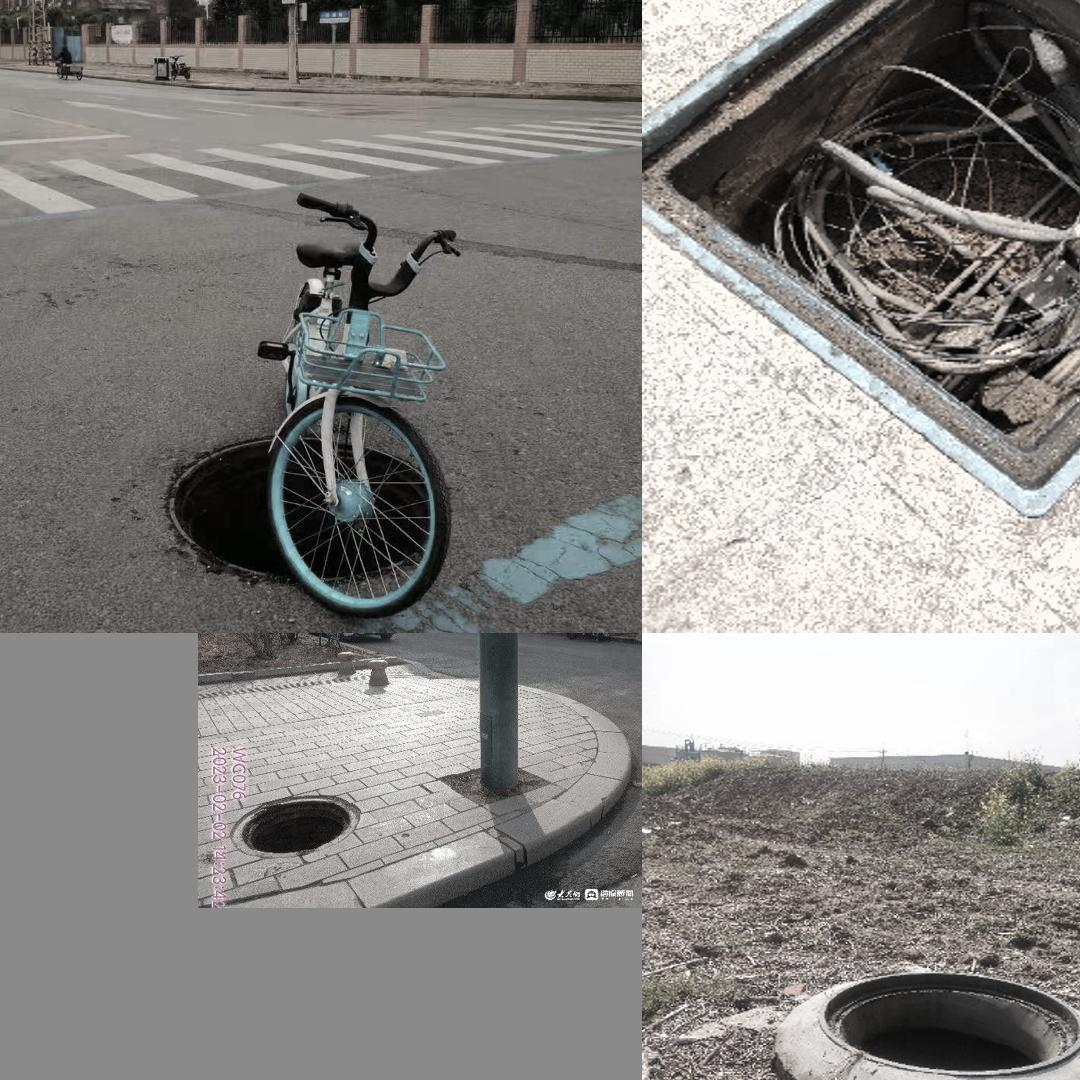lose: (644, 0, 1080, 518), (171, 431, 441, 591), (816, 970, 1080, 1077), (231, 791, 361, 856)
